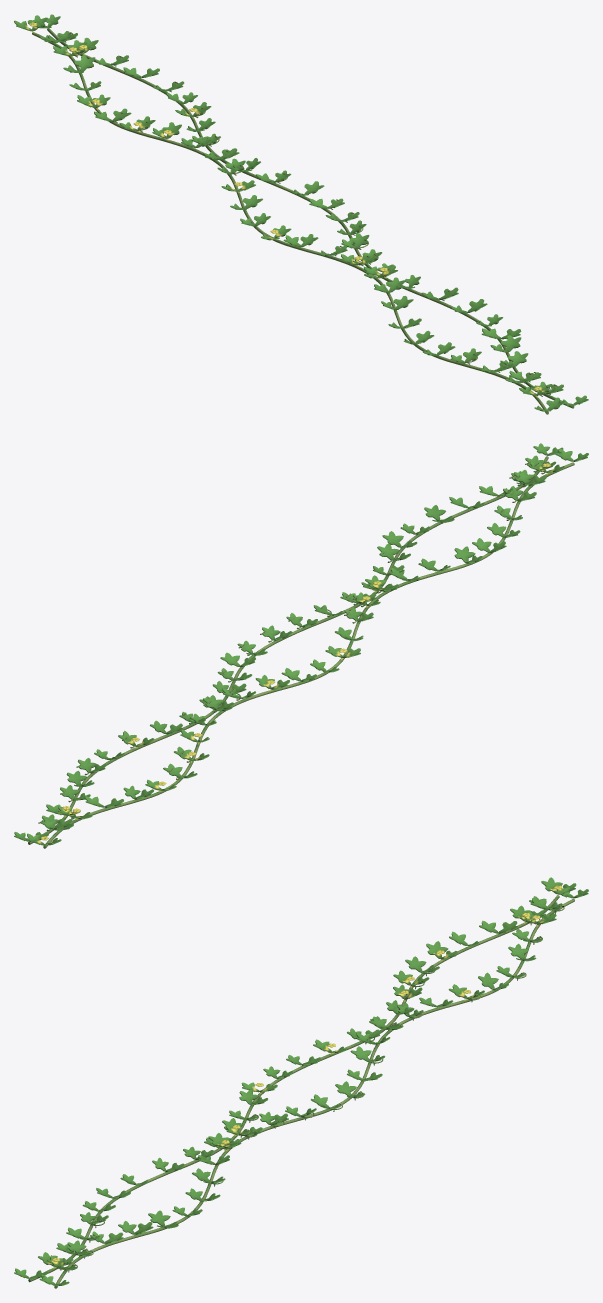
The model's file is SK_MelonVineRow.fbx.
3 renders of one model, top to bottom at view 1: azimuth 30°, elevation 25°; view 2: azimuth 150°, elevation 25°; view 3: azimuth 330°, elevation 25°, orthographic.
Visible parts, largest first — view 1: SK_MelonVineRow; view 2: SK_MelonVineRow; view 3: SK_MelonVineRow.
Boxes of the visible parts, left/top/right/bottom form: SK_MelonVineRow: left=14, top=14, right=588, bottom=414; SK_MelonVineRow: left=14, top=443, right=588, bottom=848; SK_MelonVineRow: left=14, top=877, right=588, bottom=1288.
Size of the model in its own units: 268 by 45.04 by 2375.
1 material, 1 textured.
